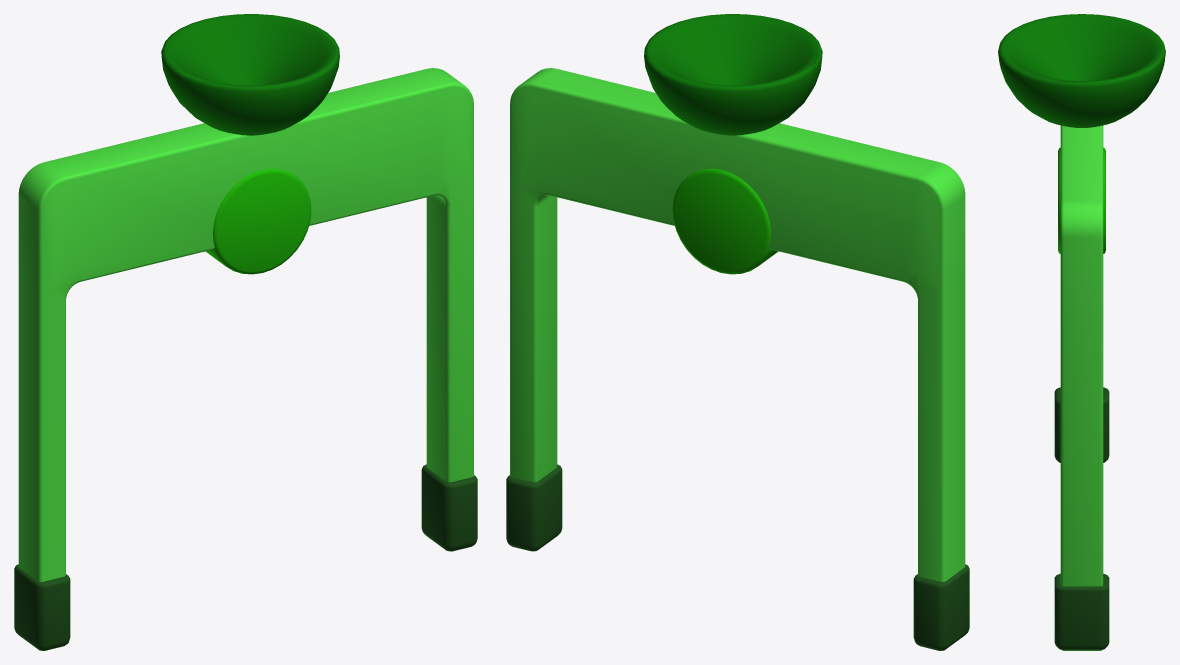
The model's file is M_Gate.fbx.
3 renders of one model, left to right at view 1: azimuth 30°, elevation 25°; view 2: azimuth 150°, elevation 25°; view 3: azimuth 270°, elevation 25°, orthographic. The views are drawn at different scales.
Parts seen in each view (by area): view 1: Gate, Plate, Cylinder, Gate1; view 2: Gate, Plate, Cylinder, Gate1; view 3: Gate, Plate, Gate1, Cylinder.
Boxes of the visible parts, bbox=[...] form: Gate: bbox=[18, 68, 473, 650]; Plate: bbox=[161, 14, 339, 135]; Cylinder: bbox=[205, 168, 311, 274]; Gate1: bbox=[14, 464, 477, 650]; Gate: bbox=[510, 68, 965, 650]; Plate: bbox=[644, 14, 822, 135]; Cylinder: bbox=[672, 168, 778, 274]; Gate1: bbox=[506, 464, 969, 650]; Gate: bbox=[1060, 125, 1103, 650]; Plate: bbox=[998, 14, 1165, 127]; Gate1: bbox=[1054, 387, 1109, 649]; Cylinder: bbox=[1058, 147, 1105, 253].
Bounding box in the file's own units: 3.55 × 4.15 × 1.25.
